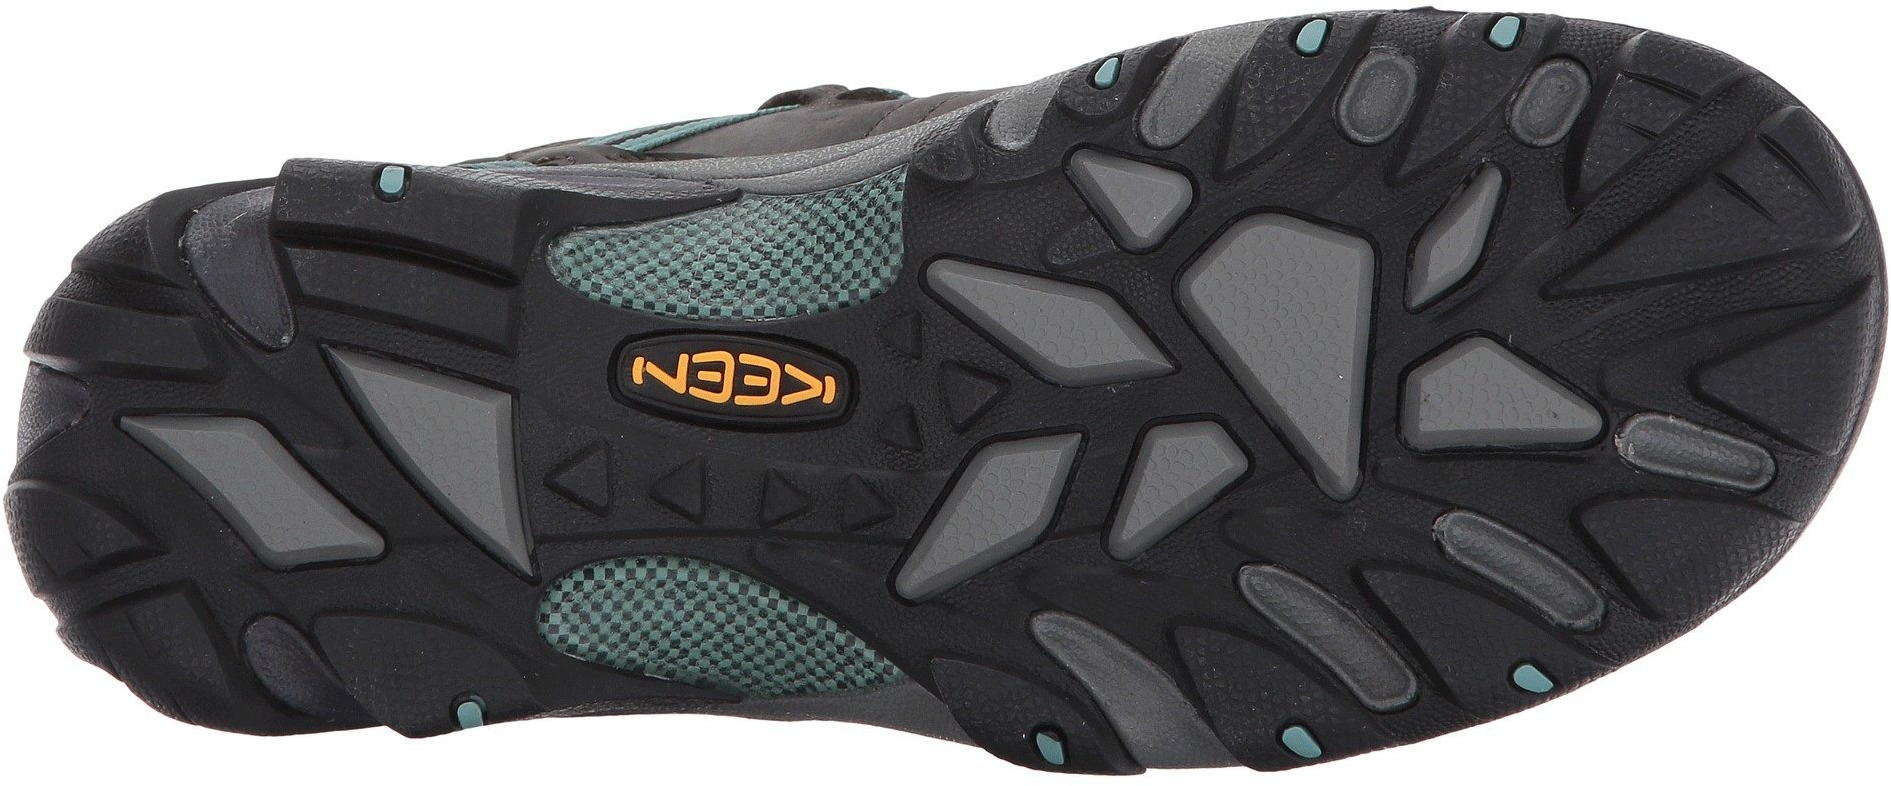text: (609, 322, 718, 435), (725, 330, 826, 438)
triangle: (850, 332, 987, 473), (652, 439, 773, 564), (541, 439, 636, 565)
